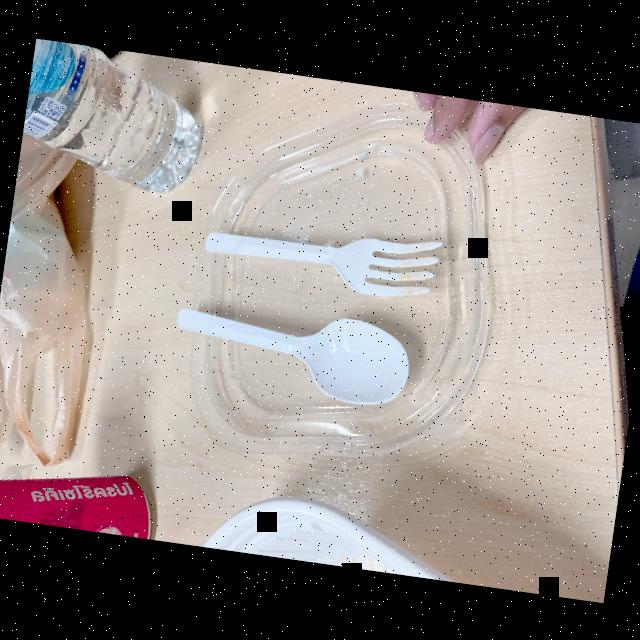plastic_spoon: (159, 282, 428, 420), (195, 202, 452, 310)
